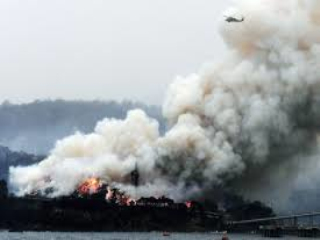fire: (78, 177, 108, 196), (185, 198, 192, 209)
smoke: (167, 4, 315, 196), (13, 114, 171, 181)
